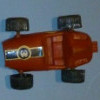carro: (3, 16, 97, 84)
